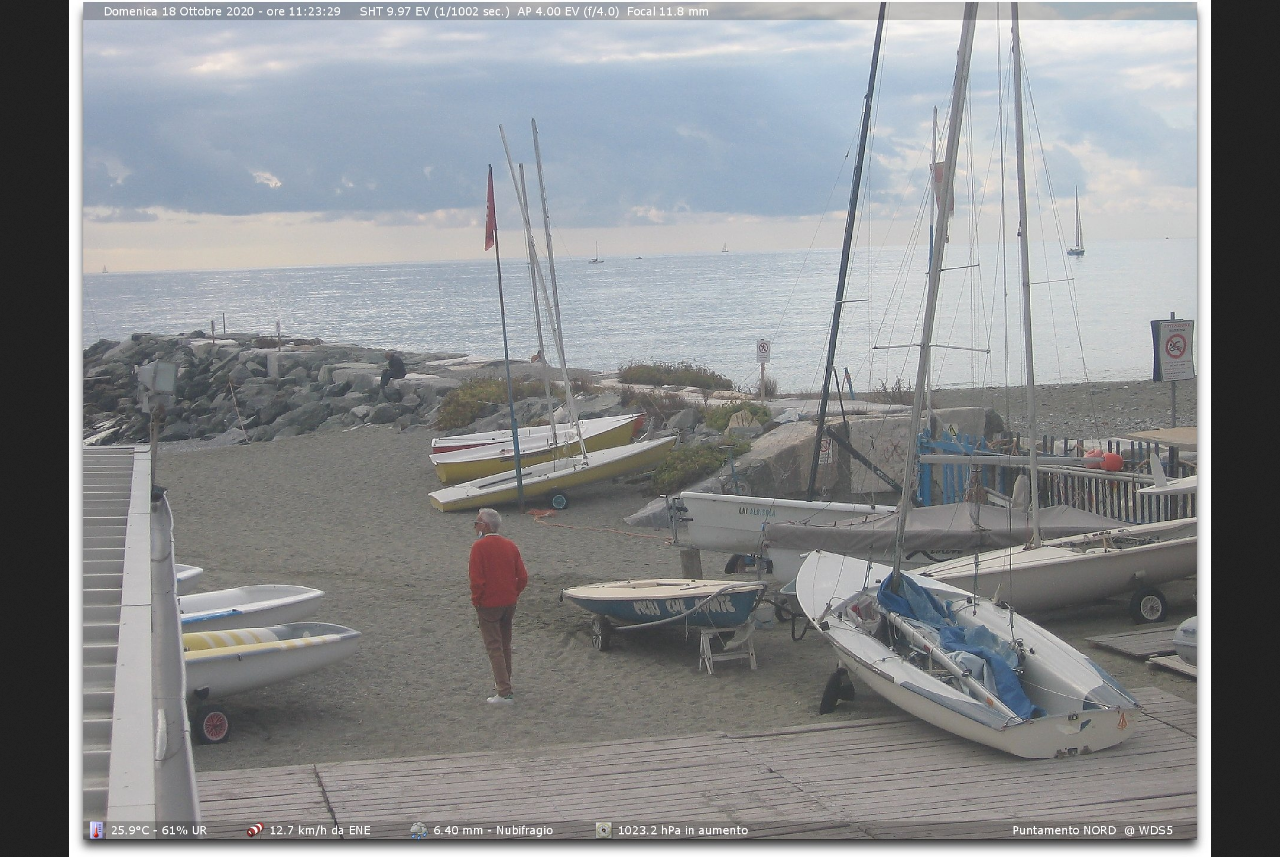no: (479, 168, 498, 252)
